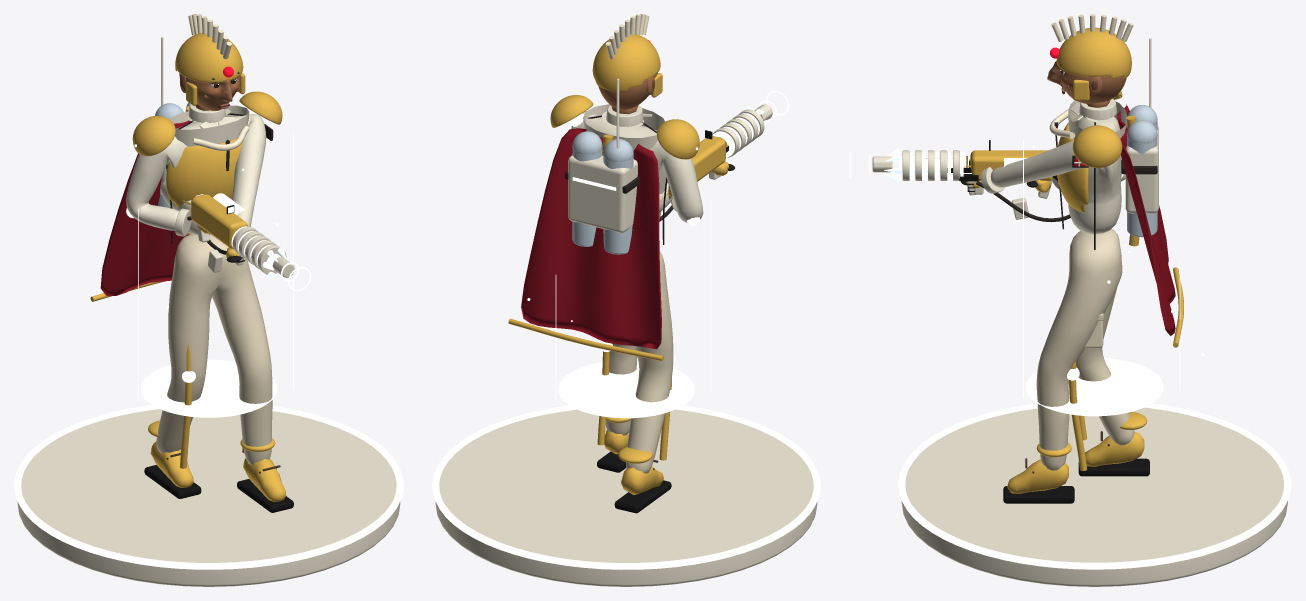
The model's file is frost_guld.glb.
The picture shows the model from 3 angles, left to right: view 1: azimuth 30°, elevation 25°; view 2: azimuth 150°, elevation 25°; view 3: azimuth 270°, elevation 25°; orthographic projection.
Visible parts, largest first — view 1: fod_net, menneske_net, op2_net, hoved_net, op4.002_net, vaaben_net, op4.001_net; view 2: fod_net, op2_net, menneske_net, op4.002_net, hoved_net, op3.001_net, vaaben_net, op4.001_net; view 3: fod_net, menneske_net, op2_net, hoved_net, op4.002_net, vaaben_net, op3.001_net, op4.001_net.
Part boxes in pixels (x1,y1,x2,y2): fod_net: (14, 405, 403, 586); menneske_net: (126, 102, 293, 512); op2_net: (90, 91, 282, 301); hoved_net: (175, 14, 245, 110); op4.002_net: (134, 134, 293, 417); vaaben_net: (160, 181, 289, 277); op4.001_net: (126, 106, 262, 468); fod_net: (432, 405, 820, 586); op2_net: (508, 95, 699, 361); menneske_net: (565, 104, 734, 513); op4.002_net: (527, 147, 711, 418); hoved_net: (592, 14, 662, 110); op3.001_net: (568, 78, 637, 232); vaaben_net: (659, 106, 770, 212); op4.001_net: (570, 113, 699, 460); fod_net: (898, 403, 1291, 586); menneske_net: (961, 98, 1157, 503); op2_net: (1049, 91, 1183, 347); hoved_net: (1047, 14, 1133, 103); op4.002_net: (1023, 140, 1204, 416); vaaben_net: (884, 149, 1125, 198); op3.001_net: (1125, 38, 1159, 213); op4.001_net: (1067, 115, 1139, 470).
Size of the model in its own units: 1.94 by 2.67 by 2.18.
